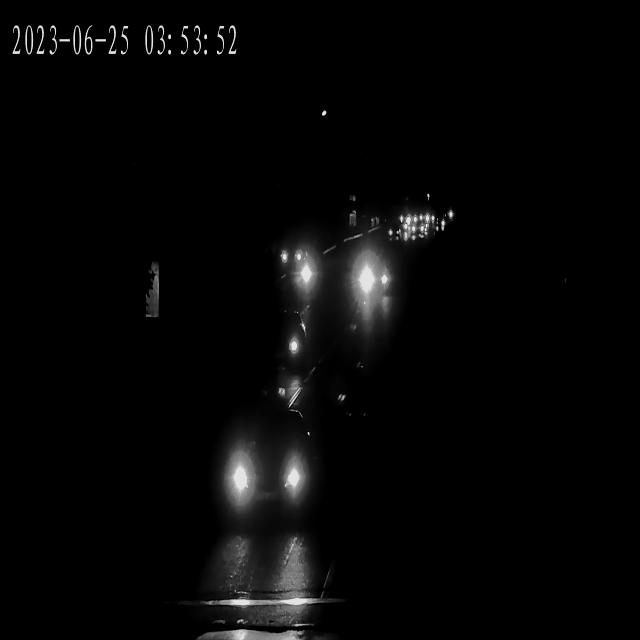Car: (218, 414, 317, 524), (350, 256, 390, 295), (276, 243, 316, 274), (406, 220, 428, 237), (406, 225, 427, 241), (385, 224, 404, 240), (384, 222, 402, 237), (431, 217, 449, 232), (428, 218, 445, 232), (396, 213, 412, 226)
